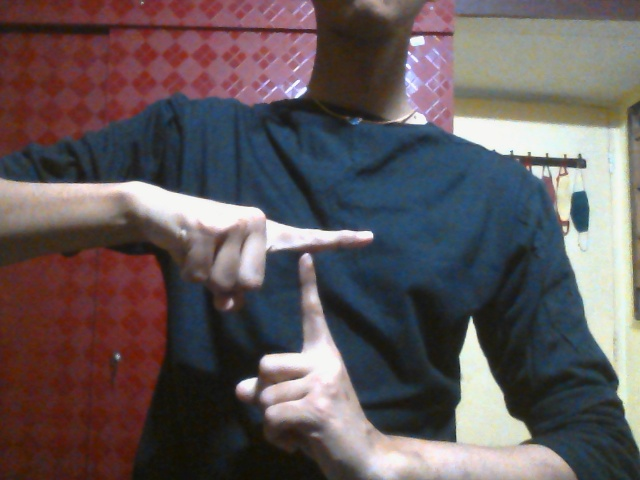T: (164, 188, 379, 472)
